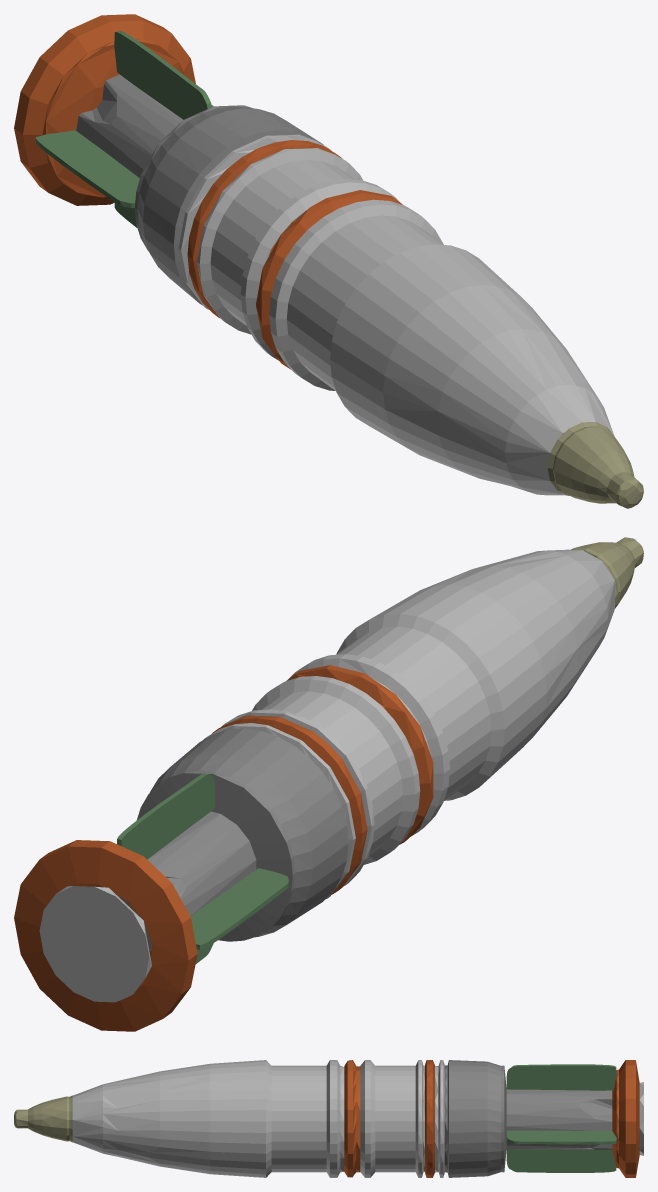
The picture shows the model from 3 angles, top to bottom: view 1: azimuth 30°, elevation 25°; view 2: azimuth 150°, elevation 25°; view 3: azimuth 270°, elevation 25°; orthographic projection. The views are drawn at different scales.
Visible parts, largest first — view 1: O_ip_he125__Cbbb, O_ip_he125__Ca52, O_ip_he125__C888, O_ip_he125__C575, O_ip_he125__C997; view 2: O_ip_he125__Cbbb, O_ip_he125__C888, O_ip_he125__Ca52, O_ip_he125__C575, O_ip_he125__C997; view 3: O_ip_he125__Cbbb, O_ip_he125__C888, O_ip_he125__C575, O_ip_he125__Ca52, O_ip_he125__C997.
Boxes of the visible parts, left/top/right/bottom form: O_ip_he125__Cbbb: left=178, top=134, right=614, bottom=495; O_ip_he125__Ca52: left=14, top=14, right=402, bottom=369; O_ip_he125__C888: left=76, top=74, right=323, bottom=305; O_ip_he125__C575: left=36, top=31, right=213, bottom=227; O_ip_he125__C997: left=547, top=422, right=643, bottom=508; O_ip_he125__Cbbb: left=39, top=549, right=614, bottom=1002; O_ip_he125__C888: left=116, top=728, right=348, bottom=950; O_ip_he125__Ca52: left=14, top=665, right=433, bottom=1031; O_ip_he125__C575: left=117, top=773, right=288, bottom=963; O_ip_he125__C997: left=571, top=537, right=643, bottom=608; O_ip_he125__Cbbb: left=72, top=1060, right=643, bottom=1177; O_ip_he125__C888: left=444, top=1060, right=612, bottom=1177; O_ip_he125__C575: left=506, top=1064, right=616, bottom=1172; O_ip_he125__Ca52: left=344, top=1060, right=639, bottom=1177; O_ip_he125__C997: left=14, top=1095, right=72, bottom=1142.
Size of the model in its own units: 0.3513 by 0.3533 by 1.87.
